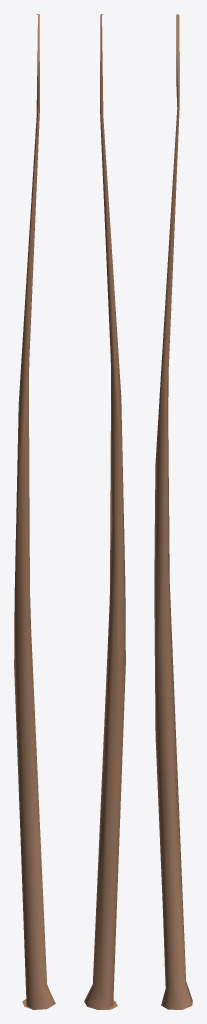
The model's file is cypr_mort_l1.glb.
3 views of the same model, side by side, from view 1: azimuth 30°, elevation 25°; view 2: azimuth 210°, elevation 25°; view 3: azimuth 330°, elevation 25° (orthographic).
Parts seen in each view (by area): view 1: Sans_titre.001; view 2: Sans_titre.001; view 3: Sans_titre.001.
Boxes of the visible parts, box(x1,y1,x2,y2) form: Sans_titre.001: box(14, 14, 55, 1009); Sans_titre.001: box(84, 14, 125, 1009); Sans_titre.001: box(154, 14, 192, 1009).
Bounding box in the file's own units: 2.82 × 70.05 × 2.21.
